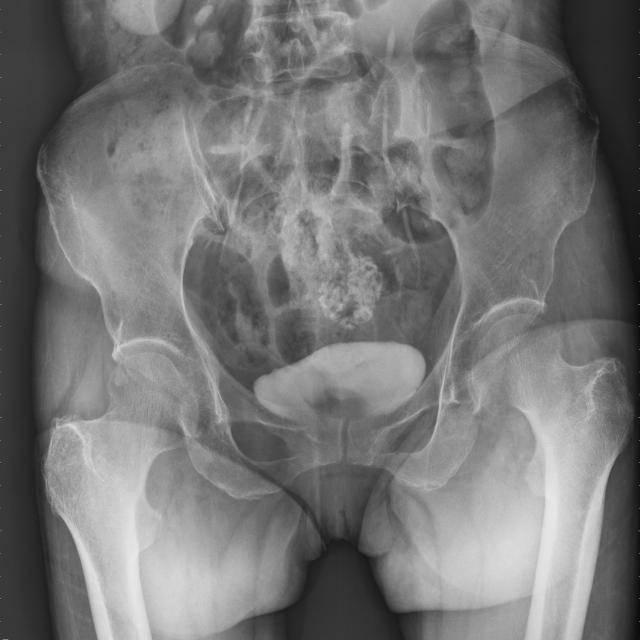normal-left: (472, 314, 634, 640)
normal-right: (41, 353, 199, 640)
